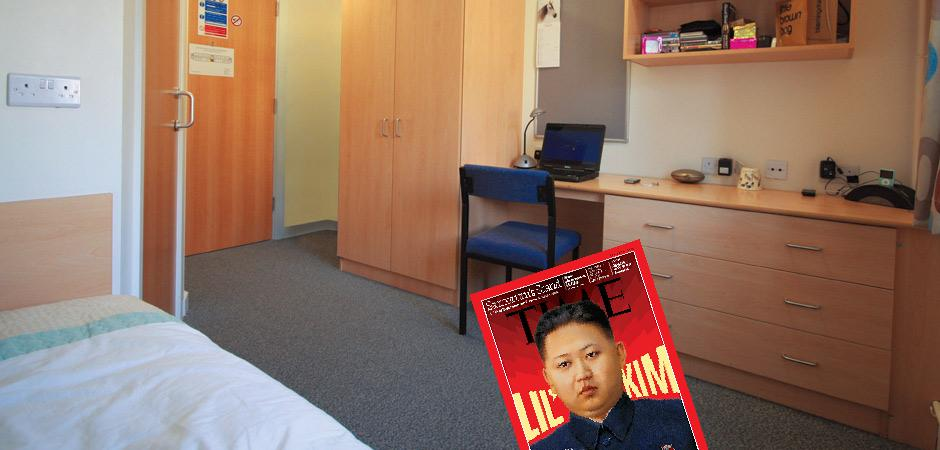times: (464, 233, 704, 447)
